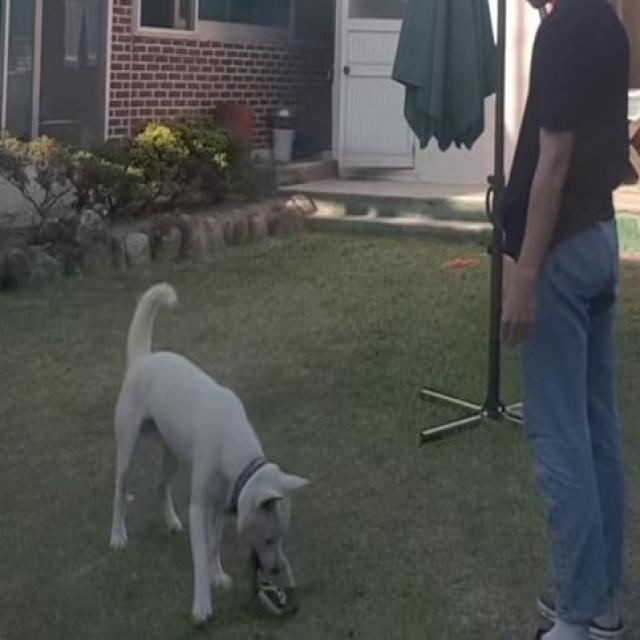Unleashed_Dog: (109, 231, 580, 631)
